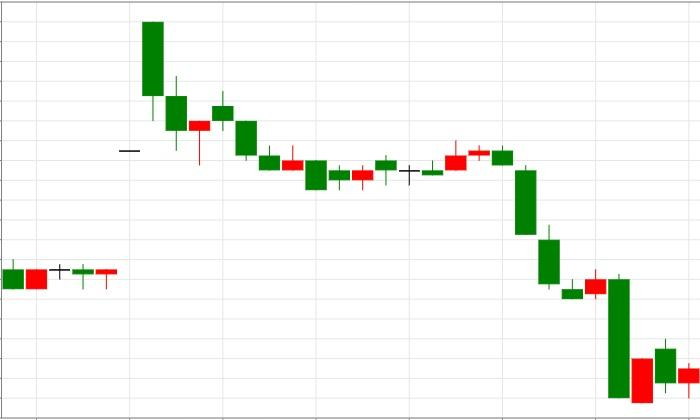three_black_crows_fall: (399, 140, 561, 289)
